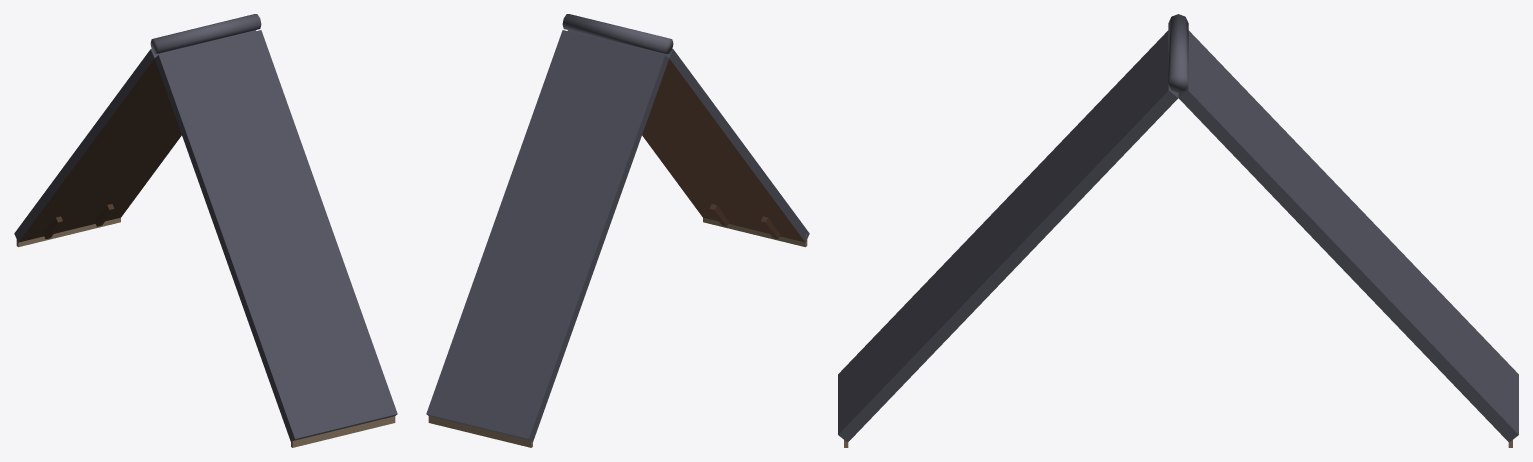
Rendered from kit_clapboard_slate_w4.glb.
3 views of the same model, side by side, from view 1: azimuth 30°, elevation 25°; view 2: azimuth 150°, elevation 25°; view 3: azimuth 270°, elevation 25° (orthographic). The views are drawn at different scales.
Parts seen in each view (by area): view 1: kit_clapboard_slate_w4; view 2: kit_clapboard_slate_w4; view 3: kit_clapboard_slate_w4.
Boxes of the visible parts, x1=… form: kit_clapboard_slate_w4: x1=14, y1=14, x2=397, y2=447; kit_clapboard_slate_w4: x1=426, y1=14, x2=809, y2=447; kit_clapboard_slate_w4: x1=838, y1=14, x2=1518, y2=447.
Size of the model in its own units: 1 by 2.87 by 4.74.
